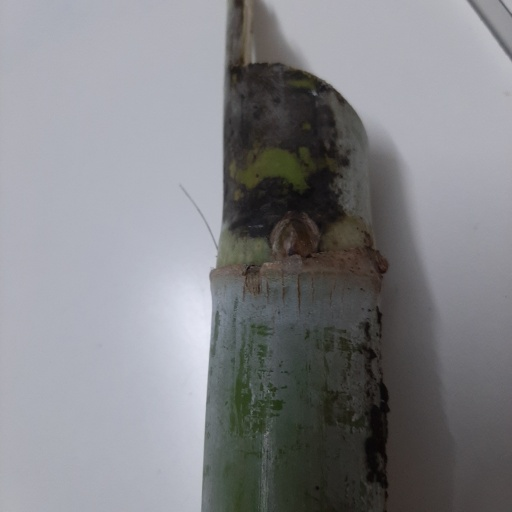Bud: (269, 214, 316, 256)
